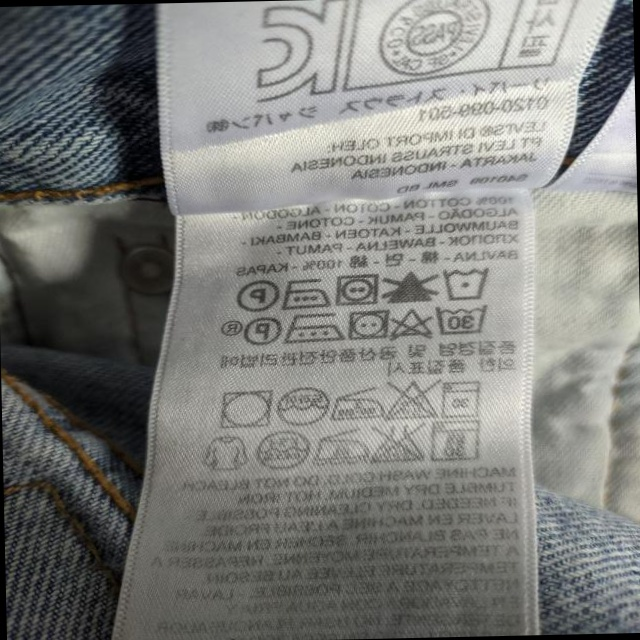30C: (429, 413, 482, 464), (438, 376, 481, 417), (443, 264, 488, 303), (434, 306, 486, 335)
DN_bleach: (382, 376, 434, 422), (387, 267, 436, 306), (392, 307, 433, 342)
dry_clean: (272, 382, 327, 432), (251, 427, 307, 470)
dry_clean_any_solvent_except_trichloroethylene: (234, 278, 277, 312), (244, 312, 281, 349)
iron: (311, 428, 368, 469)
iron_high: (284, 310, 342, 345), (278, 273, 329, 311)
iron_medium: (325, 382, 384, 423)
tumble_dry_medium: (330, 268, 381, 308), (341, 308, 390, 341)
tumble_dry_normal: (213, 384, 272, 428)
